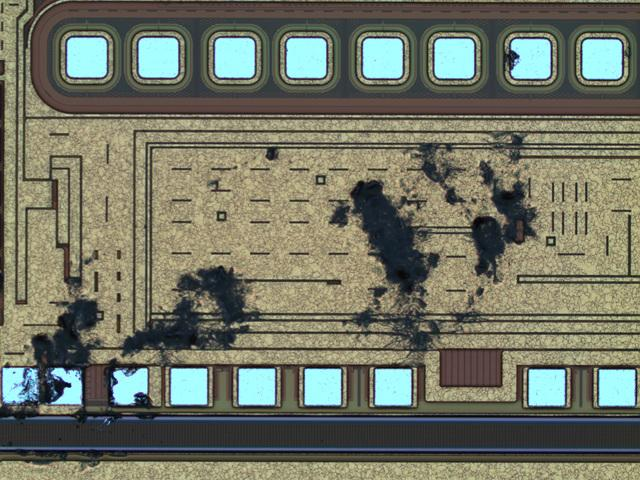PO CONTAMINATION: (1, 44, 547, 425)
